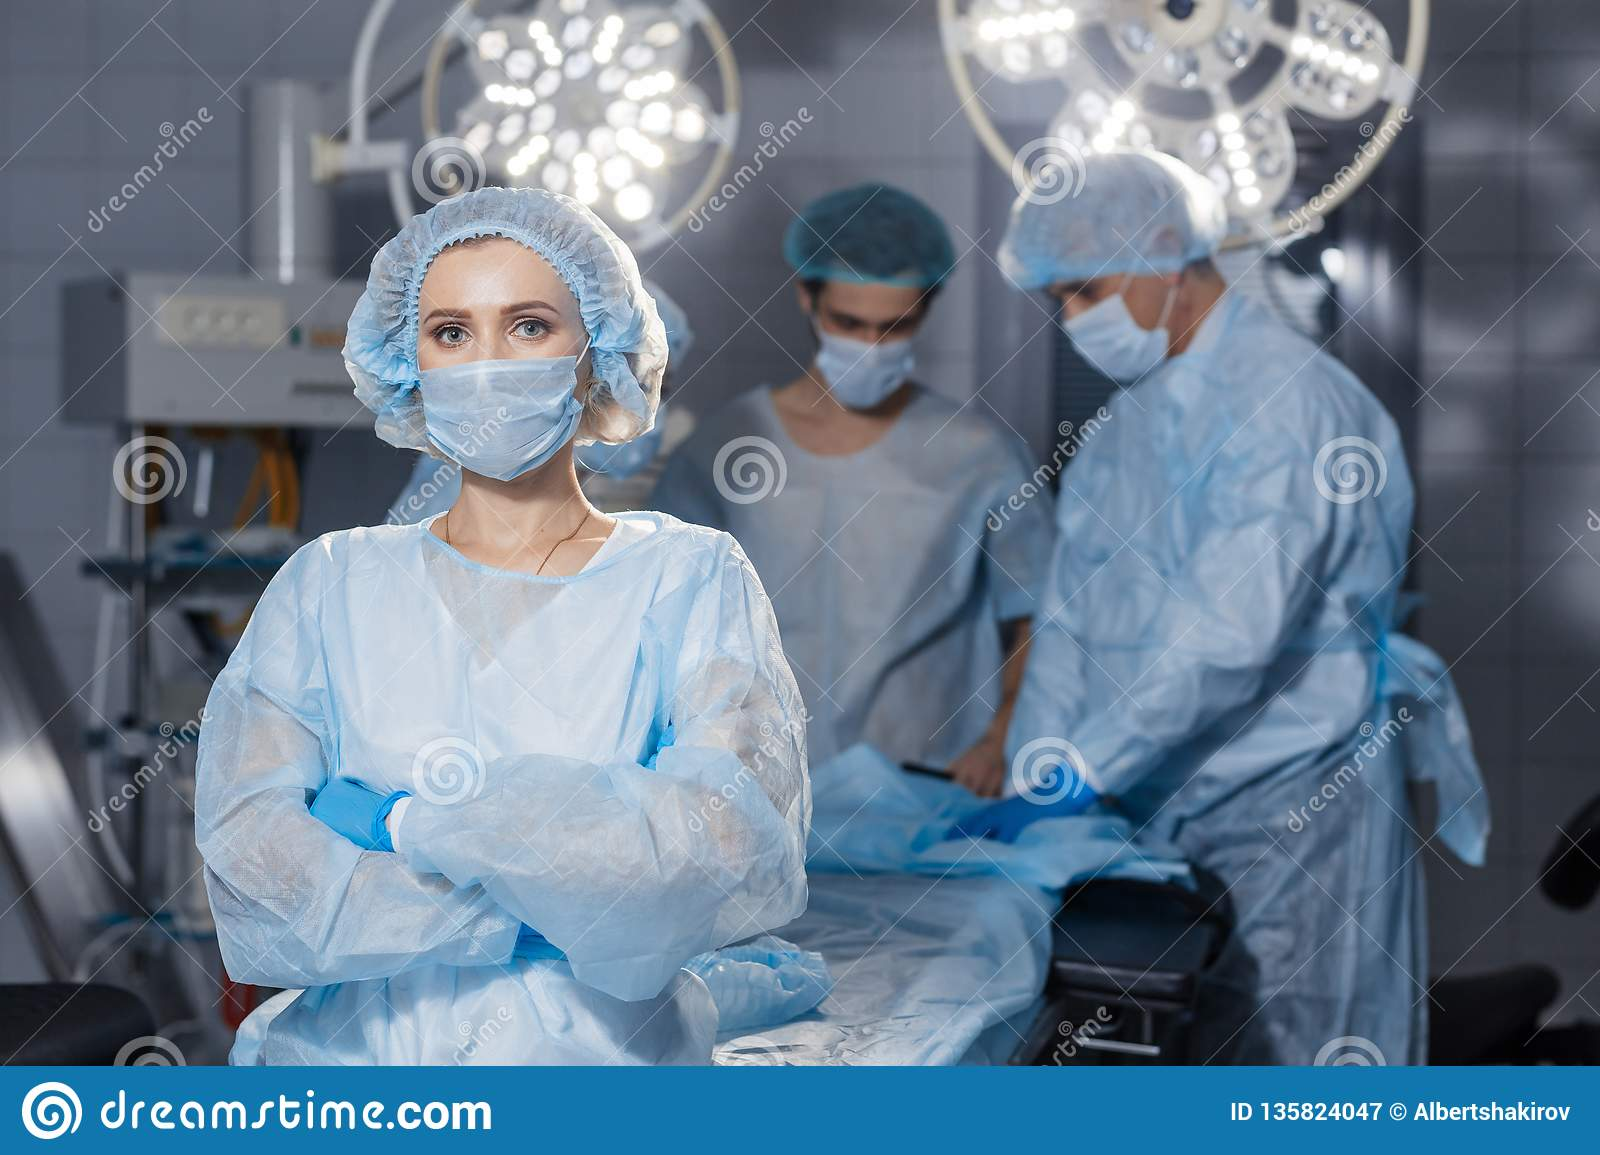mask: (405, 361, 596, 477)
